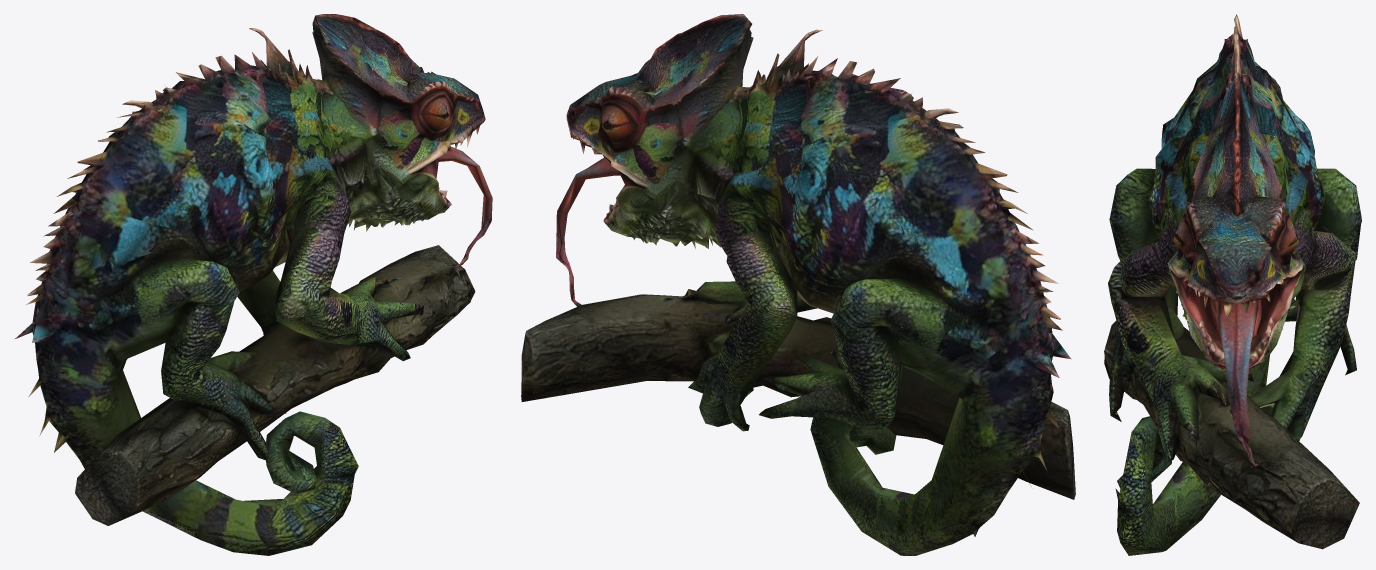
Rendered from venomchameleon.glb.
3 views of the same model, side by side, from view 1: azimuth 30°, elevation 25°; view 2: azimuth 150°, elevation 25°; view 3: azimuth 270°, elevation 25° (orthographic). The views are drawn at different scales.
Visible parts, largest first — view 1: venomchameleon; view 2: venomchameleon; view 3: venomchameleon.
Part boxes in pixels (<box>): venomchameleon: <box>15,14,492,555</box>; venomchameleon: <box>521,14,1075,555</box>; venomchameleon: <box>1104,14,1361,555</box>.
Size of the model in its own units: 0.9774 by 0.9586 by 0.4256.
Materials: 1 (1 with a texture image).
